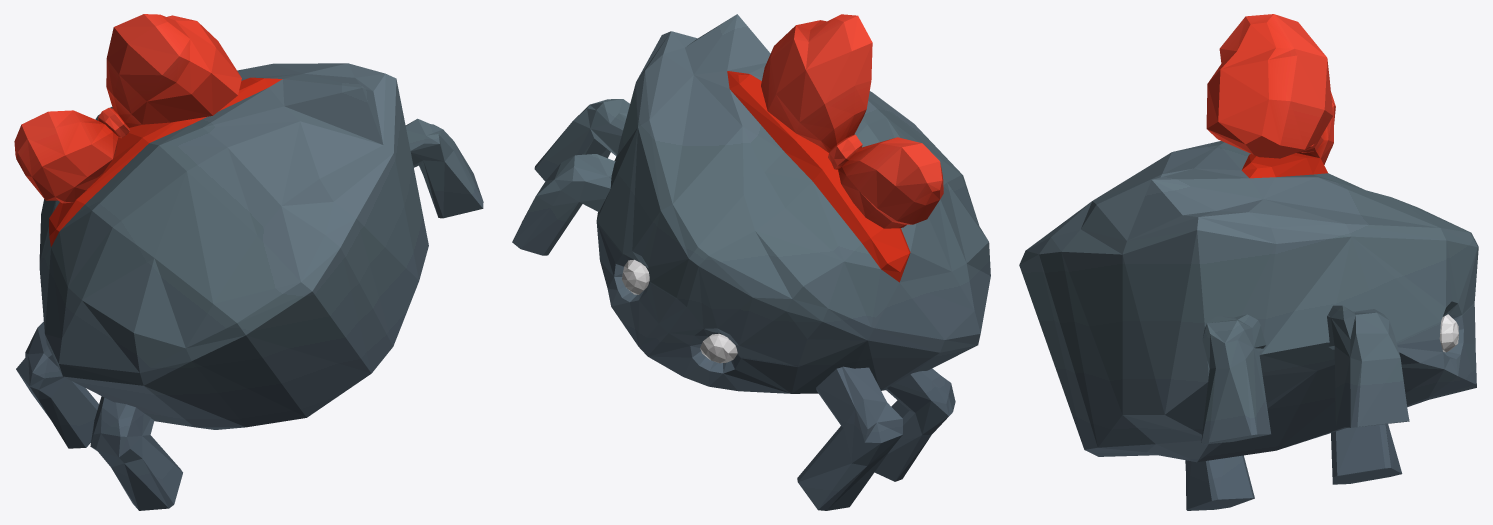
File: CharSkyKid_Neck_CrabBow.glb
3 views of the same model, side by side, from view 1: azimuth 30°, elevation 25°; view 2: azimuth 150°, elevation 25°; view 3: azimuth 270°, elevation 25° (orthographic). The views are drawn at different scales.
Visible parts, largest first — view 1: CharSkyKid_Neck_CrabBow; view 2: CharSkyKid_Neck_CrabBow; view 3: CharSkyKid_Neck_CrabBow.
Part boxes in pixels (<box>): CharSkyKid_Neck_CrabBow: <box>14,14,483,510</box>; CharSkyKid_Neck_CrabBow: <box>512,14,990,510</box>; CharSkyKid_Neck_CrabBow: <box>1019,14,1478,510</box>.
Bounding box in the file's own units: 1.69 × 1.75 × 1.42.
1 material, 1 textured.
